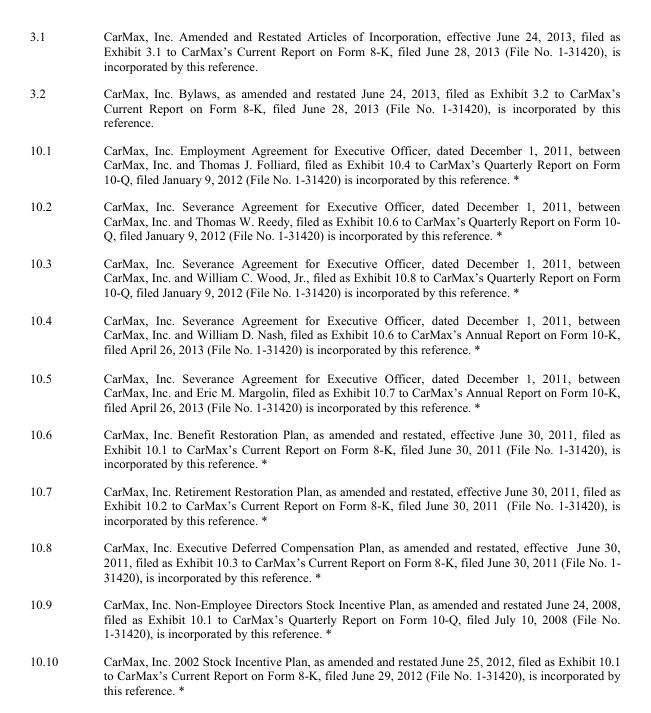table: (28, 29, 619, 682)
table column: (80, 29, 619, 682), (28, 29, 80, 682)
table row: (28, 362, 619, 420), (28, 135, 619, 192), (28, 248, 619, 305), (28, 305, 619, 362), (28, 476, 619, 533), (28, 533, 619, 590), (28, 79, 619, 135), (28, 192, 619, 248), (28, 420, 619, 476), (28, 590, 619, 646), (28, 29, 619, 79), (28, 646, 619, 682)
